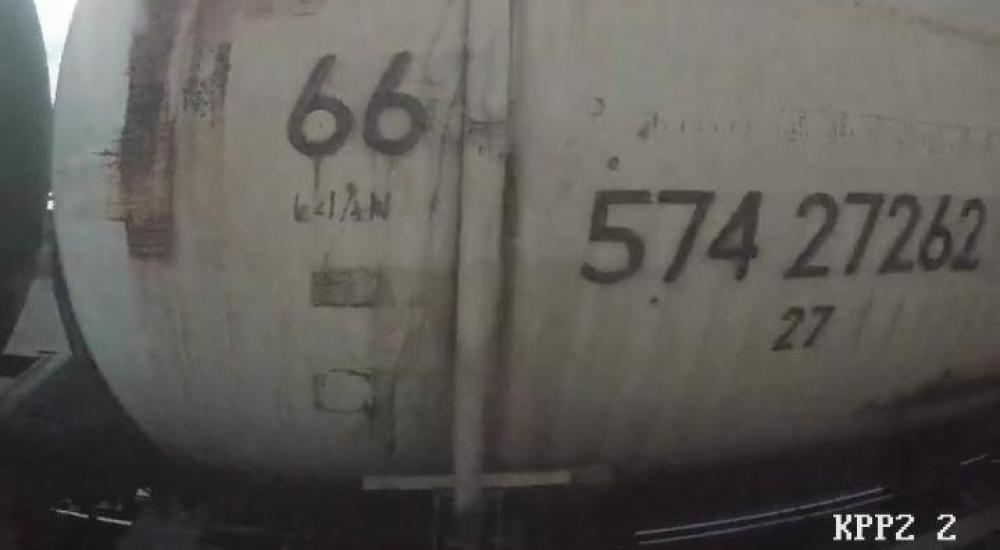Wagon-number: (577, 184, 990, 288)
